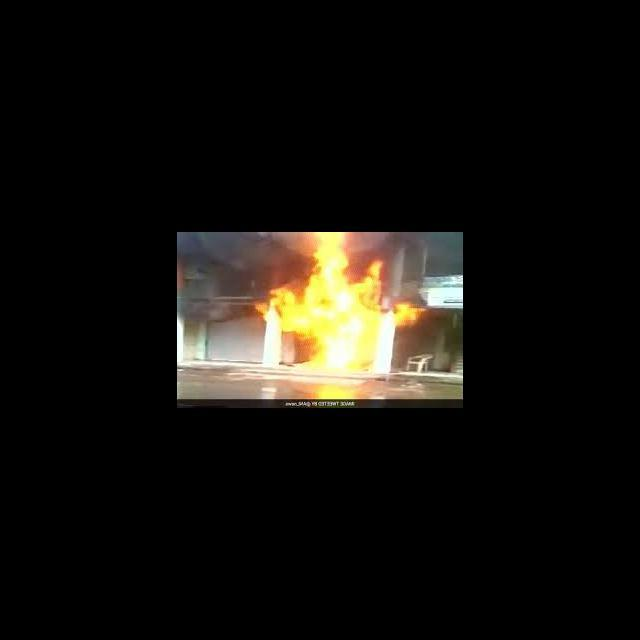Fire: (254, 232, 423, 373)
